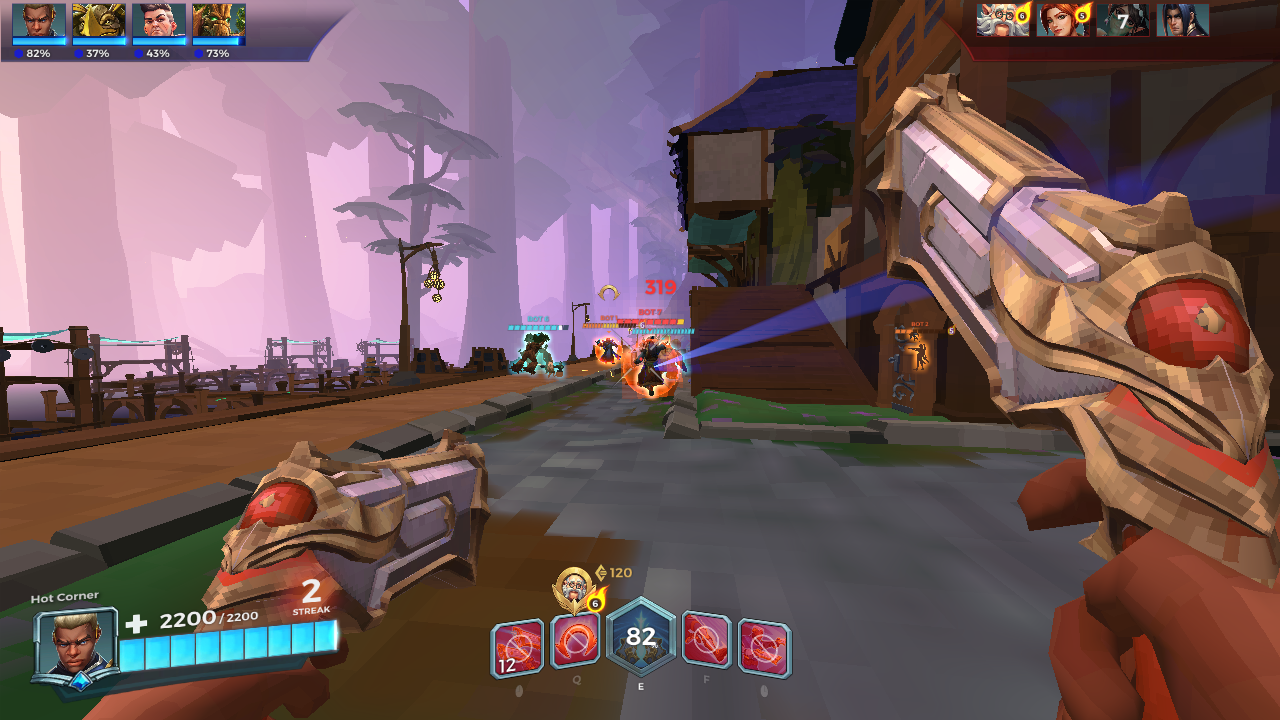model: (629, 339, 675, 396), (600, 333, 618, 368), (909, 340, 929, 370)
